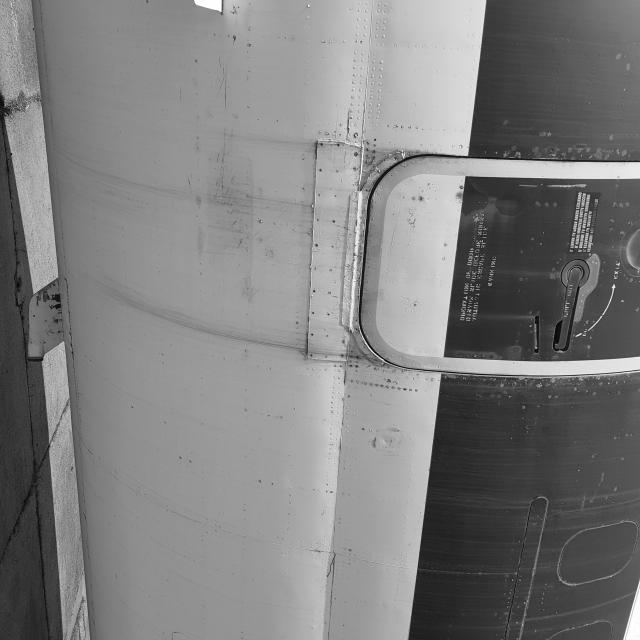crack: (322, 556, 343, 586)
